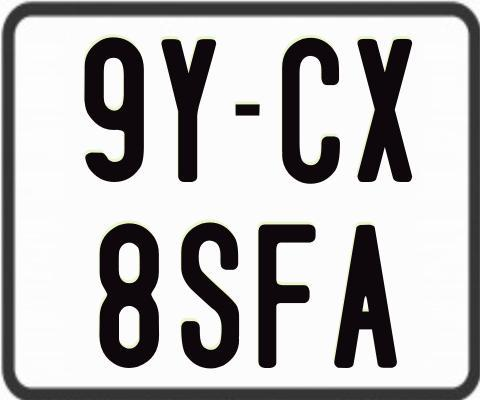8: (97, 220, 158, 370)
9: (81, 37, 146, 187)
A: (331, 223, 396, 367)
C: (281, 35, 343, 183)
F: (255, 224, 318, 370)
S: (178, 220, 239, 370)
X: (354, 37, 409, 181)
Y: (159, 37, 216, 183)
